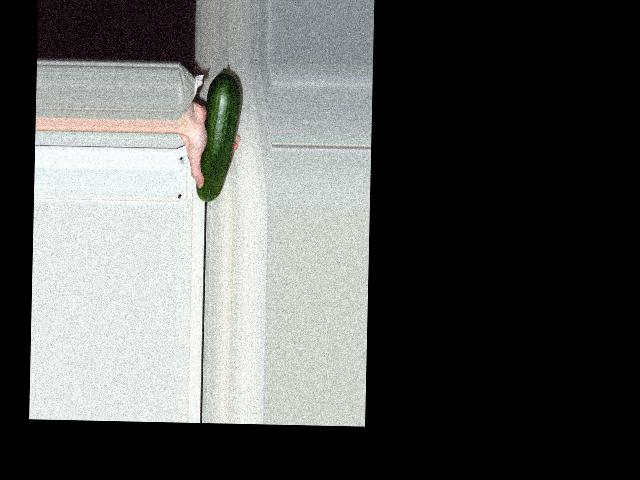cucumber: (196, 68, 243, 202)
